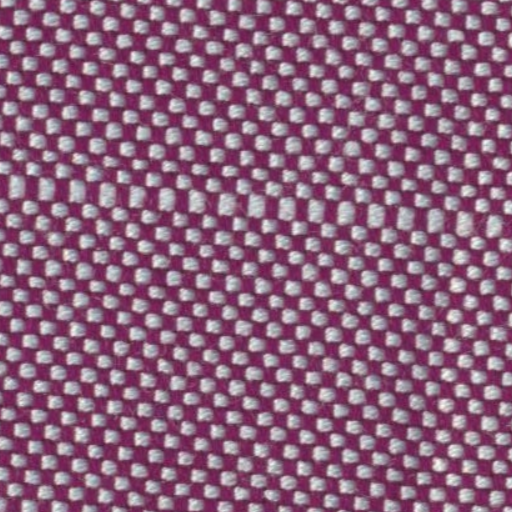TuoSha: (8, 158, 505, 276)
